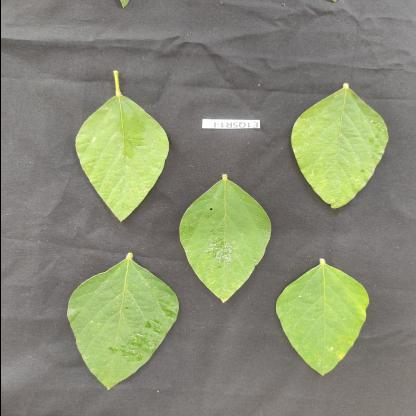label: (192, 112, 265, 146)
leaflets: (62, 263, 190, 408), (181, 170, 279, 318), (292, 78, 392, 216), (269, 262, 383, 382), (77, 79, 159, 242)
